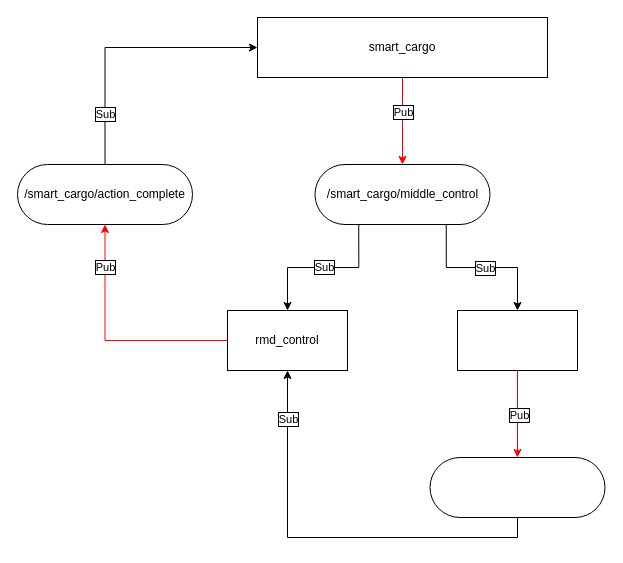
The diagram is 623 pixels wide and 563 high, and some of its shapes have lost their labels. Here are the shapes that lost their labels. From the top down, the centre of each, then its label:
the point at 517,340: wago_iosystem
the point at 517,487: /smart_cargo/sensor_signal
